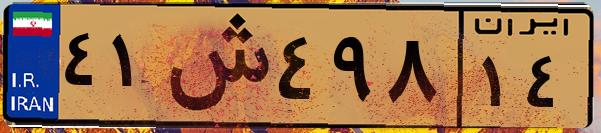1: (475, 38, 525, 113), (110, 28, 158, 98)
4: (270, 28, 330, 110), (57, 26, 110, 100), (525, 38, 570, 115)
8: (385, 28, 445, 110)
9: (330, 28, 385, 110)
ش: (158, 12, 270, 120)
